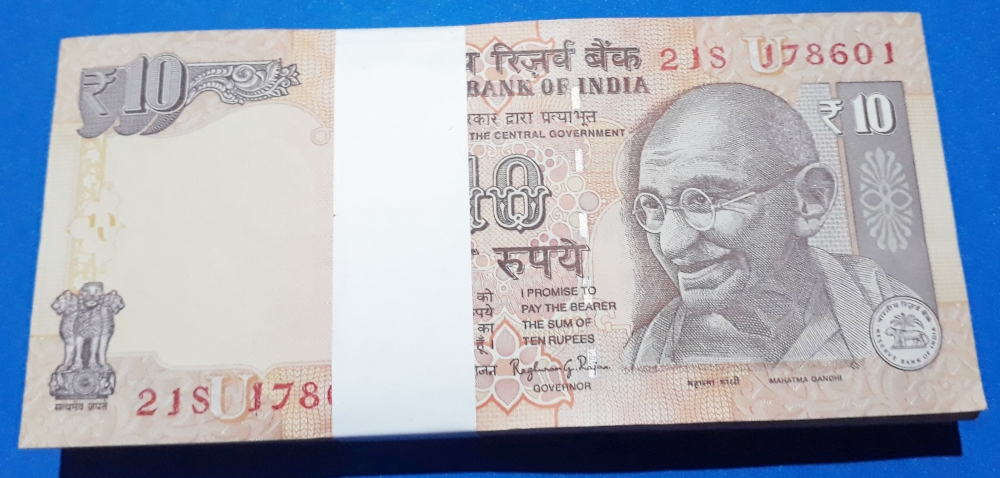ten_rupees_note: (8, 33, 989, 449)
